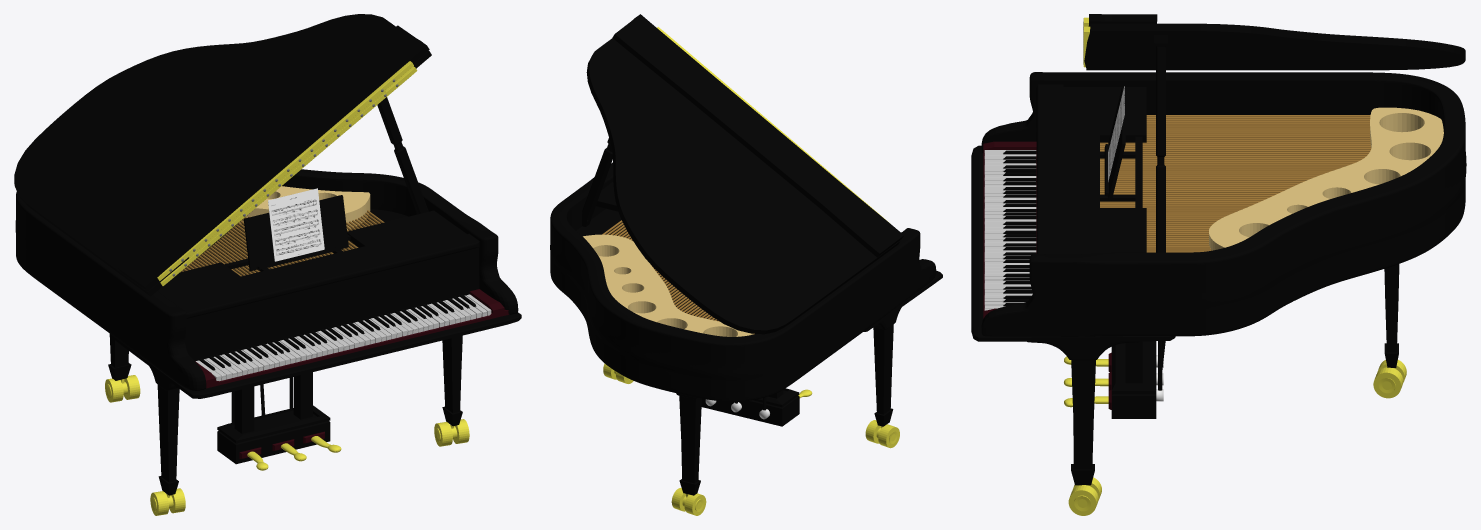
File: GrandPiano.fbx
3 views of the same model, side by side, from view 1: azimuth 30°, elevation 25°; view 2: azimuth 150°, elevation 25°; view 3: azimuth 270°, elevation 25° (orthographic). The views are drawn at different scales.
Visible parts, largest first — view 1: Cube.001, Cube, Plane, Cube.002, Plane.001, Plane.002, Cube.016, Plane.003, Plane.008, Plane.006, Cylinder.012, Cube.010 (+12 smaller); view 2: Cube.001, Cube, Cube.002, Plane.096, Cube.012, Cube.016, Cube.010, Cube.005, Cylinder.012, Cube.006, Cylinder.001, Cylinder.002 (+1 smaller); view 3: Cube, Cylinder.012, Cube.001, Plane.001, Plane.096, Plane, Plane.002, Cube.016, Cube.008, Cube.006, Cube.012, Cube.007 (+7 smaller).
Part boxes in pixels (x1,y1,x2,y2): Cube.001: (14,14,431,296); Cube: (15,169,518,390); Plane: (176,233,479,361); Cube.002: (118,25,429,291); Plane.001: (157,210,466,304); Plane.002: (113,312,521,398); Cube.016: (217,405,330,464); Plane.003: (157,61,417,285); Plane.008: (268,188,324,261); Plane.006: (243,195,348,271); Cylinder.012: (180,210,384,276); Cube.010: (157,385,179,495); Cube.001: (586,38,900,334); Cube: (550,162,936,401); Cube.002: (612,14,903,257); Plane.096: (583,234,753,336); Cube.012: (679,396,701,495); Cube.016: (701,388,799,426); Cube.010: (873,325,893,426); Cube.005: (576,208,717,320); Cylinder.012: (602,220,754,334); Cube.006: (582,138,612,226); Cylinder.001: (865,420,899,448); Cylinder.002: (671,488,706,515); Cube: (981,72,1466,336); Cylinder.012: (1100,115,1371,252); Cube.001: (1084,23,1465,70); Plane.001: (1063,87,1146,254); Plane.096: (1209,107,1443,250); Plane: (1036,84,1063,254); Plane.002: (971,145,1175,341); Cube.016: (1111,341,1156,418); Cube.008: (1071,360,1095,485); Cube.006: (1154,35,1167,252); Cube.012: (1384,264,1399,367); Cube.007: (1027,341,1139,360).
Bounding box in the file's own units: 339 × 393 × 367.
Materials: 9 (1 with a texture image).
